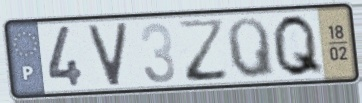3: (139, 20, 177, 85)
4: (46, 24, 89, 90)
Q: (270, 12, 326, 80), (225, 15, 278, 80)
V: (85, 20, 131, 89)
Z: (176, 16, 232, 84)
